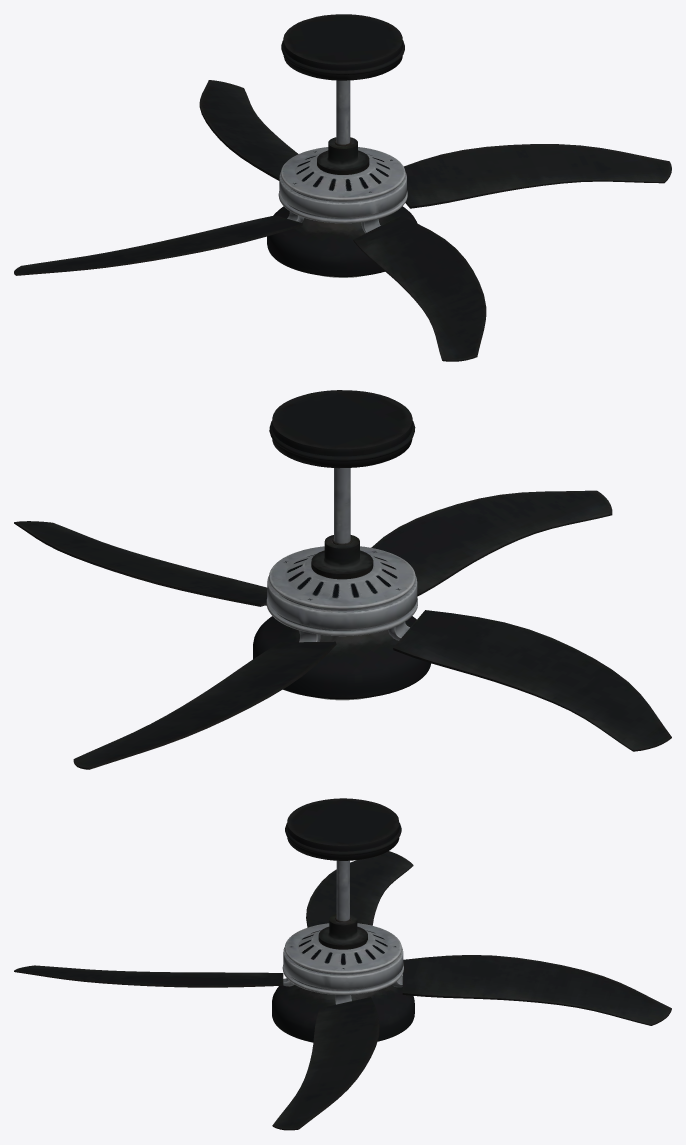
The model's file is ceiling-fan.glb.
The picture shows the model from 3 angles, top to bottom: view 1: azimuth 30°, elevation 25°; view 2: azimuth 150°, elevation 25°; view 3: azimuth 270°, elevation 25°; orthographic projection. The views are drawn at different scales.
Visible parts, largest first — view 1: ceiling_fan; view 2: ceiling_fan; view 3: ceiling_fan.
Part boxes in pixels (x1,y1,x2,y2): ceiling_fan: (14,14,671,361); ceiling_fan: (14,390,671,769); ceiling_fan: (14,798,671,1130).
Size of the model in its own units: 1.46 by 0.5163 by 1.46.
Materials: 1 (1 with a texture image).
